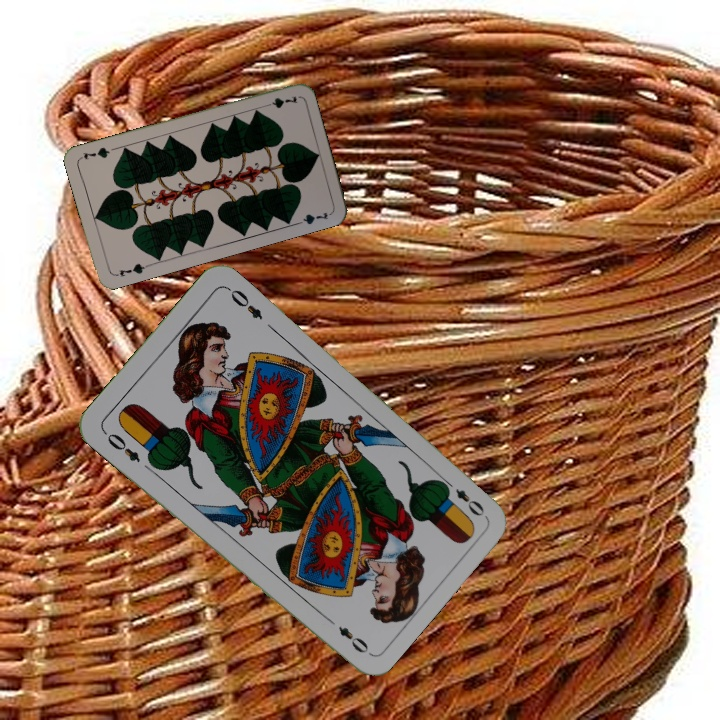EO: (438, 475, 488, 519), (99, 427, 143, 465)
G7: (111, 259, 151, 279), (259, 92, 300, 111)
